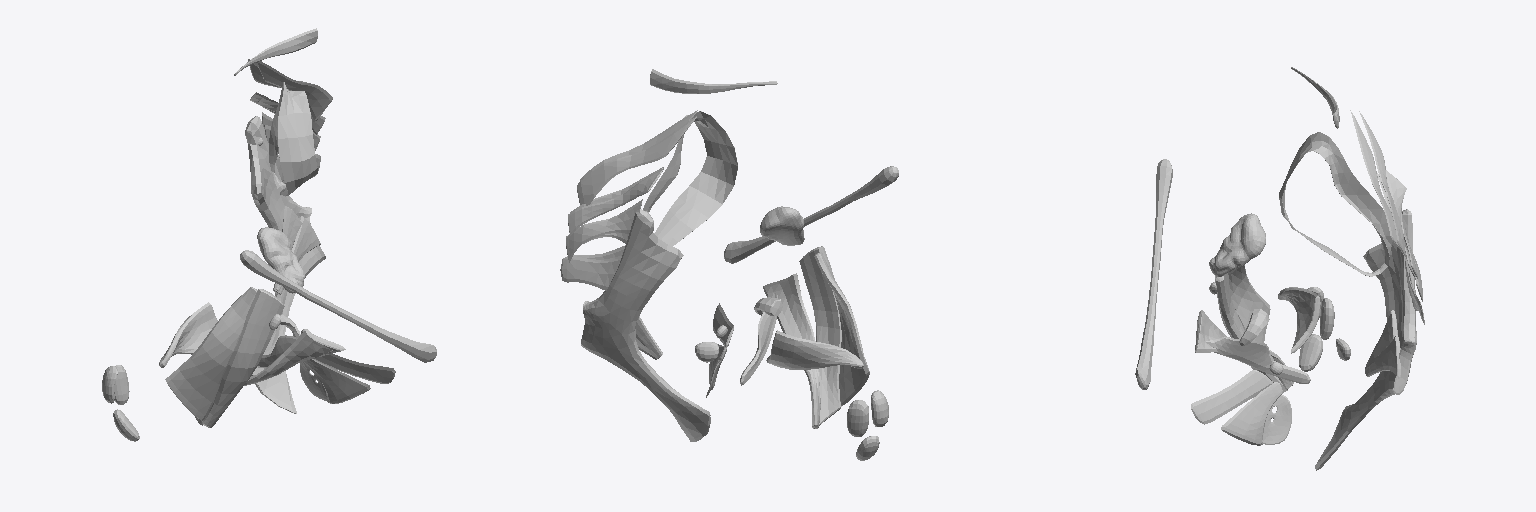
The model's file is Connective.Ligaments.Capsula_articularis_membrana_fibrosa_R.002.obj.
The picture shows the model from 3 angles: view 1: azimuth 30°, elevation 25°; view 2: azimuth 150°, elevation 25°; view 3: azimuth 270°, elevation 25°; orthographic projection.
Parts seen in each view (by area): view 1: Connective:Ligaments:Capsula_articularis_membrana_fibrosa_R.002_; view 2: Connective:Ligaments:Capsula_articularis_membrana_fibrosa_R.002_; view 3: Connective:Ligaments:Capsula_articularis_membrana_fibrosa_R.002_.
Part boxes in pixels (bbox=[...]): Connective:Ligaments:Capsula_articularis_membrana_fibrosa_R.002_: bbox=[102, 28, 436, 441]; Connective:Ligaments:Capsula_articularis_membrana_fibrosa_R.002_: bbox=[560, 69, 898, 460]; Connective:Ligaments:Capsula_articularis_membrana_fibrosa_R.002_: bbox=[1135, 67, 1424, 470].
Bounding box in the file's own units: 0.9101 × 1.19 × 0.8387.